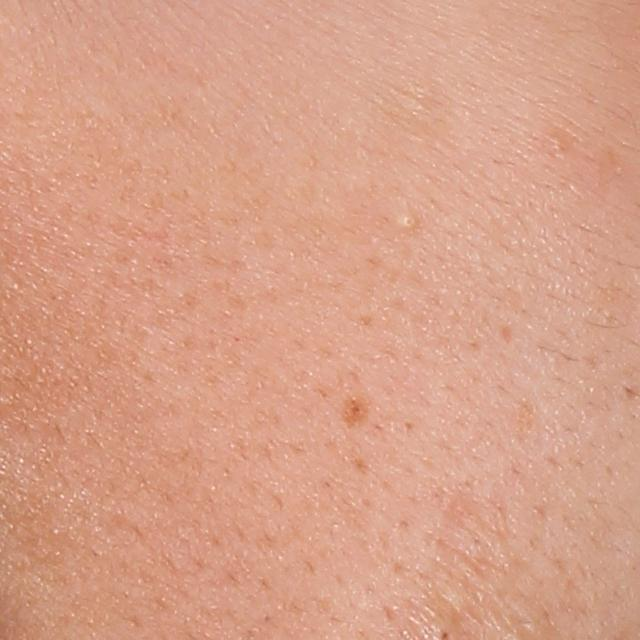atrophic_scar: (500, 323, 514, 346)
comedo: (394, 210, 422, 231)
nevus: (341, 384, 375, 426)
